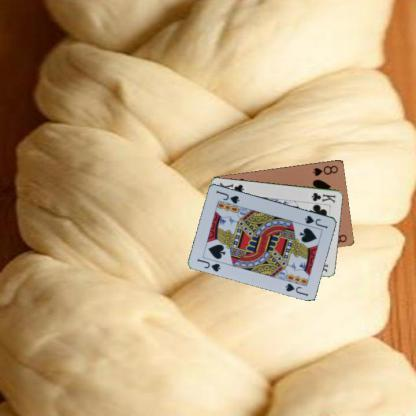8s: (310, 163, 339, 177)
Js: (302, 212, 329, 230), (195, 256, 222, 273)
Kc: (309, 190, 337, 204)
